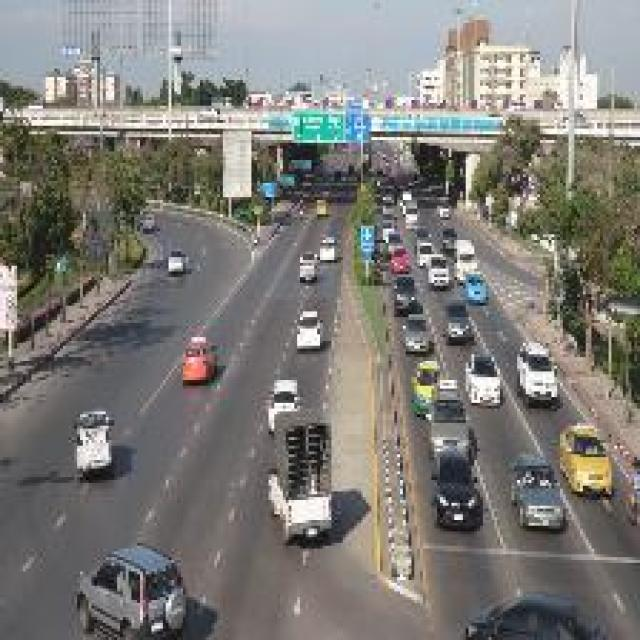other: (538, 402, 616, 500), (170, 327, 215, 379)
